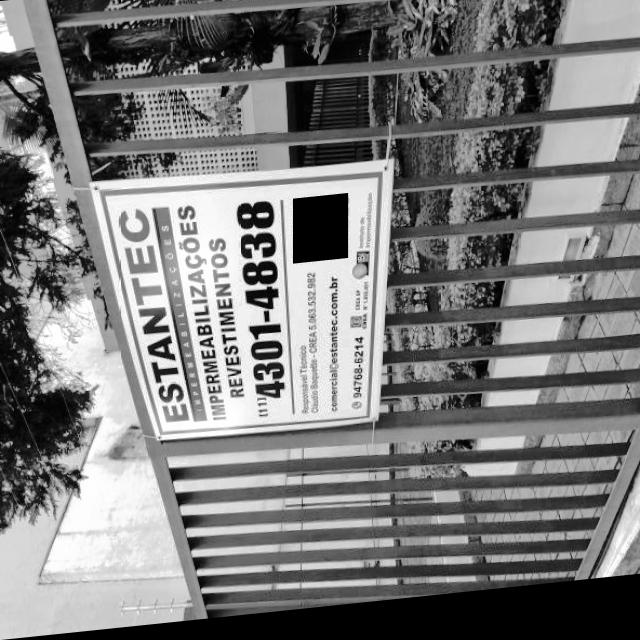qr_code: (293, 200, 348, 269)
